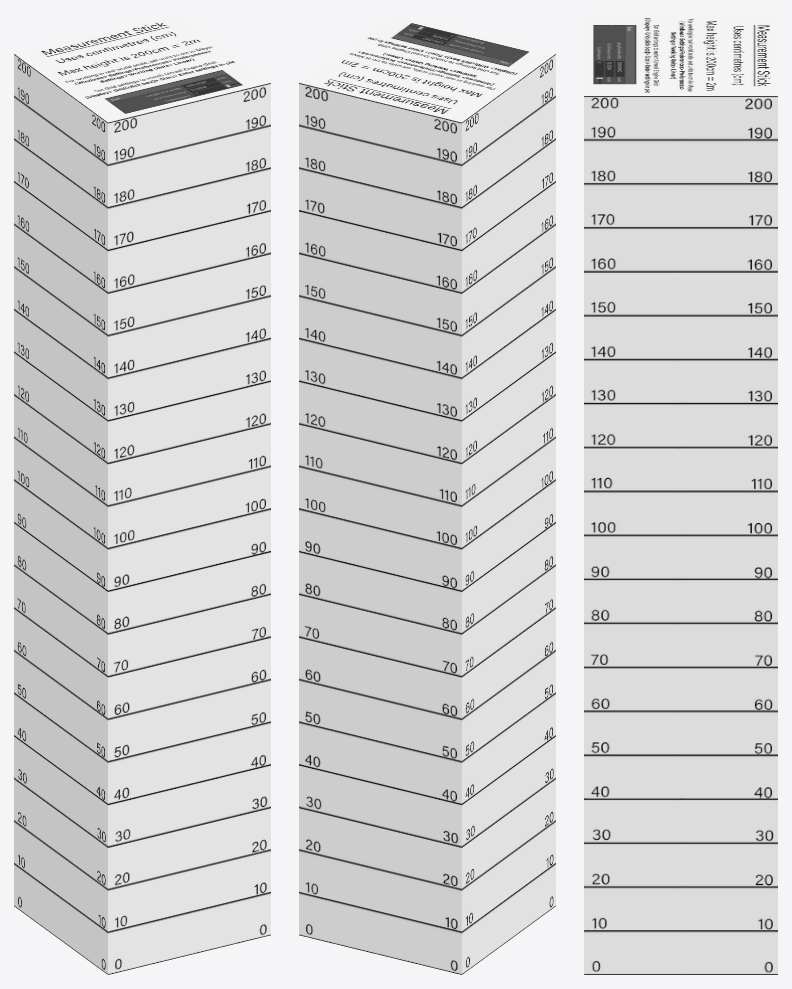
Rendered from measurement_stick.glb.
3 renders of one model, left to right at view 1: azimuth 30°, elevation 25°; view 2: azimuth 150°, elevation 25°; view 3: azimuth 270°, elevation 25°, orthographic. The views are drawn at different scales.
Visible parts, largest first — view 1: MeasurementStick; view 2: MeasurementStick; view 3: MeasurementStick.
Part boxes in pixels (left/top/right/bottom): MeasurementStick: left=14, top=14, right=270, bottom=974; MeasurementStick: left=299, top=14, right=555, bottom=974; MeasurementStick: left=584, top=14, right=777, bottom=974.
Size of the model in its own units: 40 by 200 by 40.
Materials: 1 (1 with a texture image).
